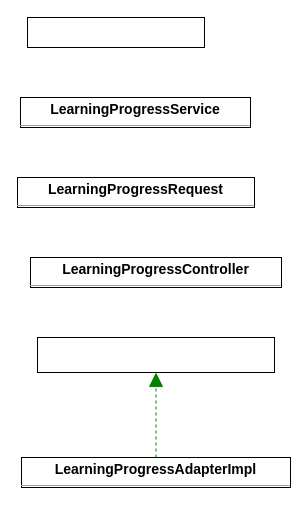
The diagram is 308 pixels wide and 505 high, and some of its shapes have lost their labels. Each missing label, with the centre of its shape:
"<<interface>> LearningProgressAdapter" belongs at (x=155, y=354).
"LearningProgress" belongs at (x=115, y=32).
